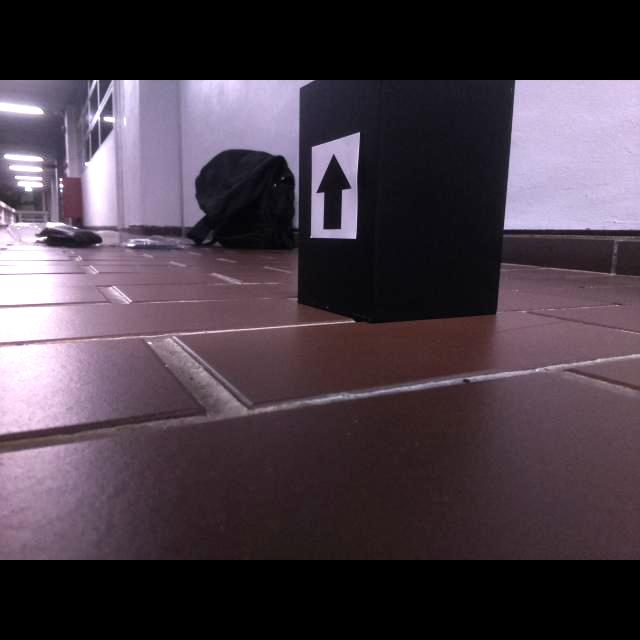UP: (315, 153, 352, 231)
